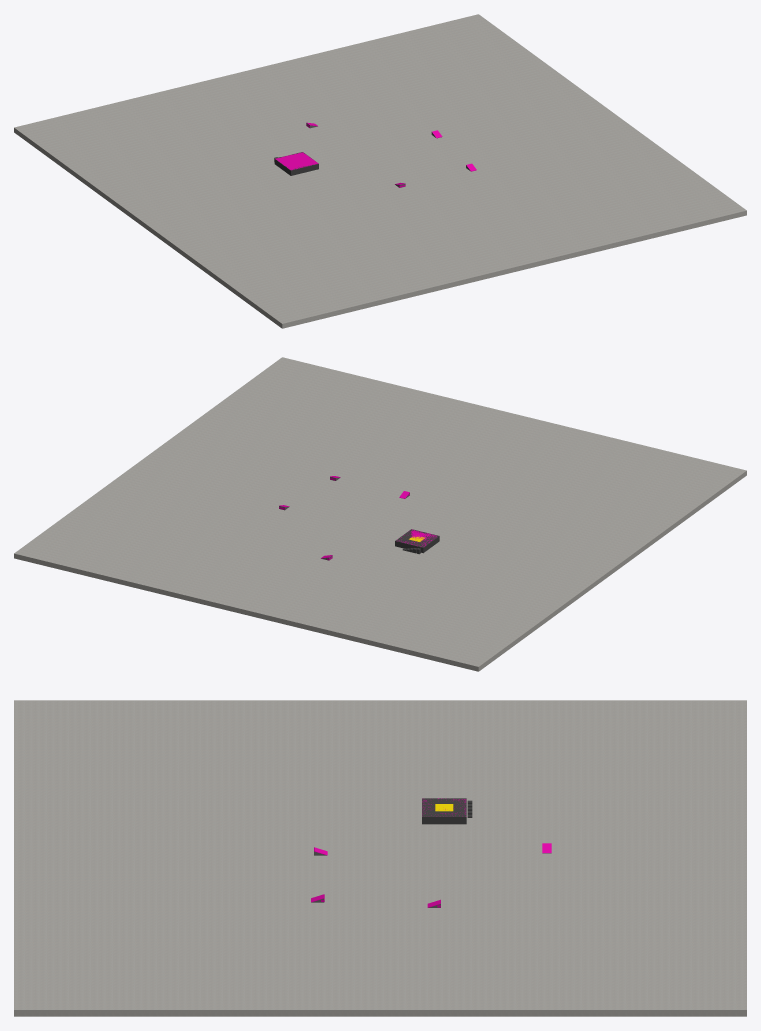
The model's file is sandbox.glb.
3 renders of one model, top to bottom at view 1: azimuth 30°, elevation 25°; view 2: azimuth 150°, elevation 25°; view 3: azimuth 270°, elevation 25°, orthographic. The views are drawn at different scales.
Parts seen in each view (by area): view 1: Cube; view 2: Cube, Cube.013; view 3: Cube, Cube.013.
Part boxes in pixels (x1,y1,x2,y2): Cube: [14, 14, 746, 328]; Cube: [14, 357, 746, 671]; Cube.013: [395, 529, 439, 553]; Cube: [14, 700, 746, 1016]; Cube.013: [422, 798, 466, 824].
Bounding box in the file's own units: 400 × 8.44 × 400.
Materials: 5 (1 with a texture image).
